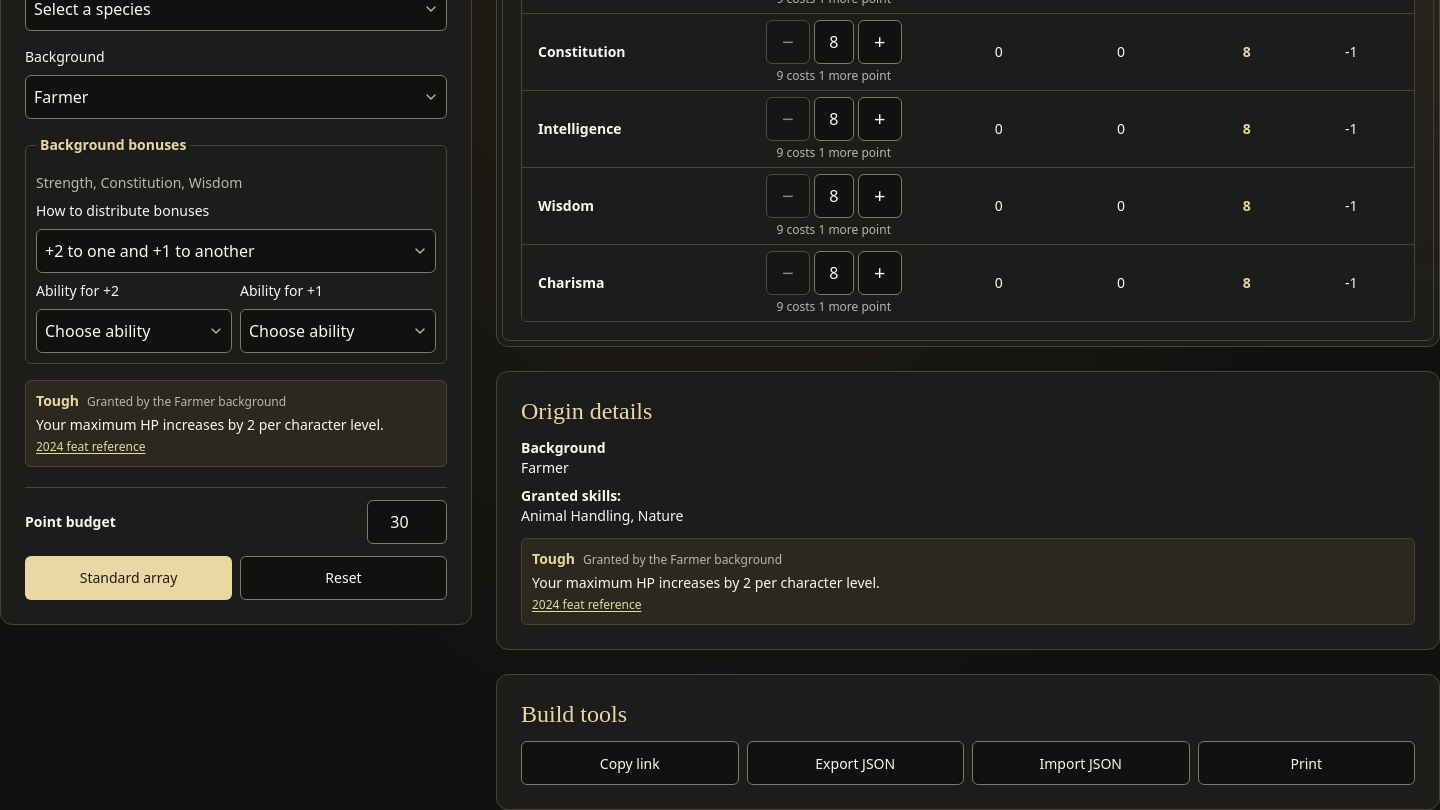
CharacterForm and BuildSync › resets the build and restores the previous build and URL on Undo
(page scrolled)
Click the button with aria-label "Reset all scores and character settings" at (344, 578), box 240,556 -> 447,600
(page scrolled)
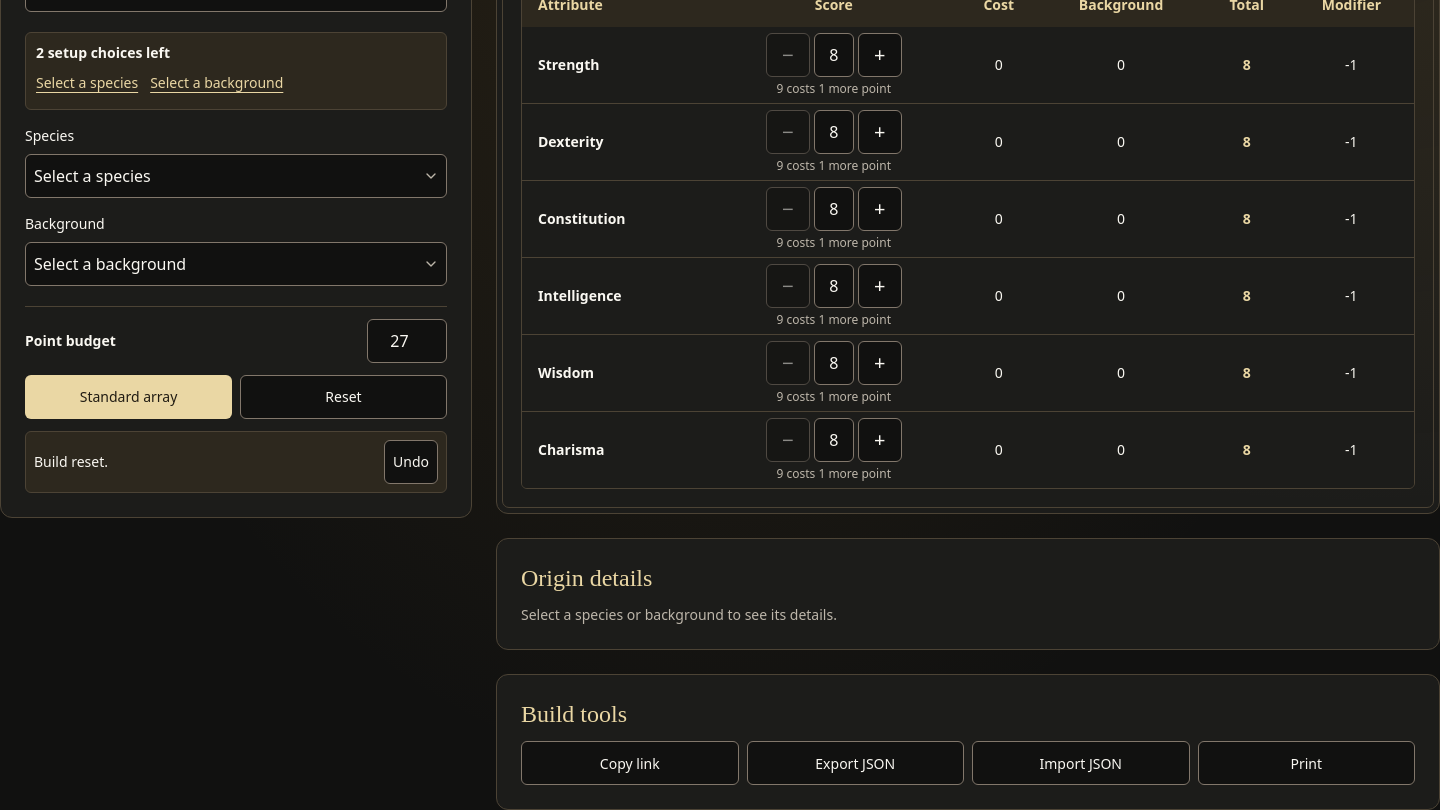
Check: the dropdown labelled "Background" shows "Select a background", box 25,242 -> 447,286
Check: the number field named "Strength score" holds "8", box 814,33 -> 854,77
Click the button "Undo" at (411, 462), box 384,440 -> 438,484
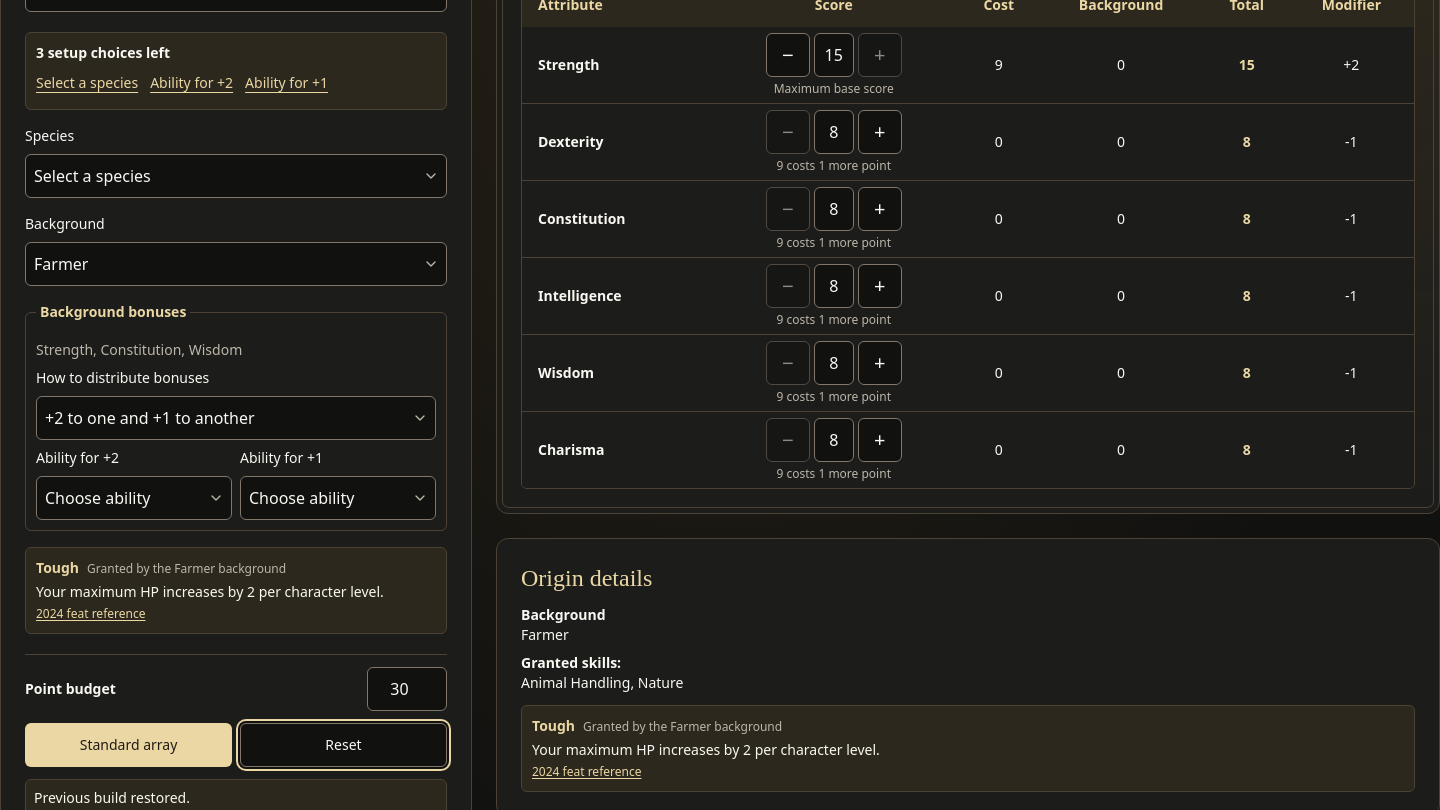
Check: the text "Previous build restored." is shown, box 34,788 -> 190,808
Check: the dropdown labelled "Background" shows "Farmer", box 25,242 -> 447,286
Check: the number field named "Strength score" holds "15", box 814,33 -> 854,77
